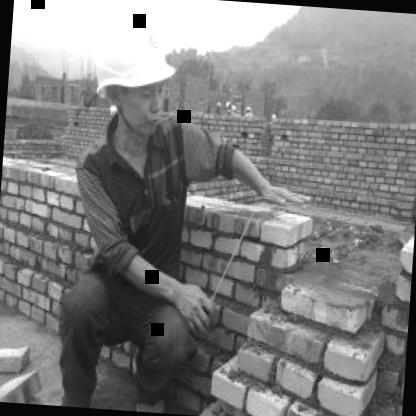helmet: (90, 15, 176, 134)
